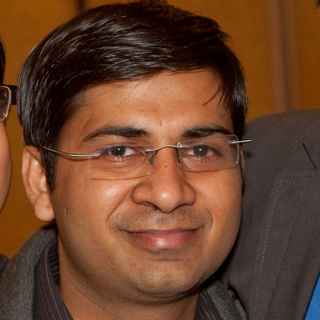eye: (171, 136, 236, 168), (87, 142, 150, 169)
